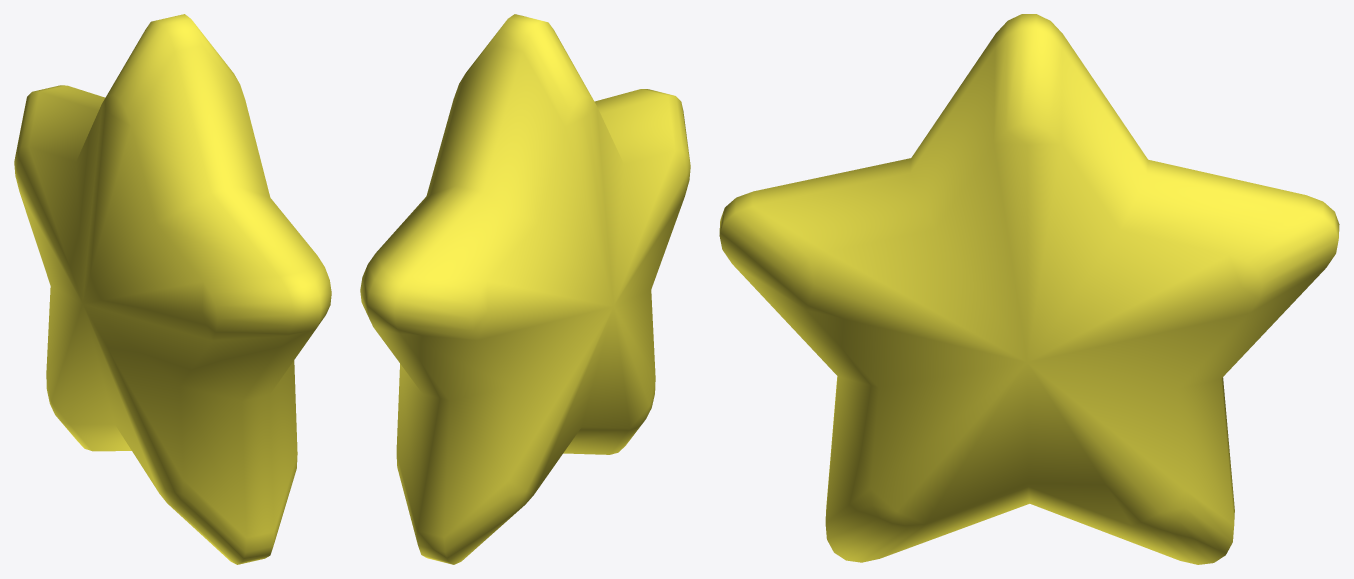
Rendered from star.fbx.
3 renders of one model, left to right at view 1: azimuth 30°, elevation 25°; view 2: azimuth 150°, elevation 25°; view 3: azimuth 270°, elevation 25°, orthographic. The views are drawn at different scales.
Visible parts, largest first — view 1: star; view 2: star; view 3: star.
Part boxes in pixels (<box>): star: <box>14,14,331,564</box>; star: <box>360,14,690,564</box>; star: <box>719,14,1339,564</box>.
Size of the model in its own units: 0.3374 by 0.8752 by 0.9168.
